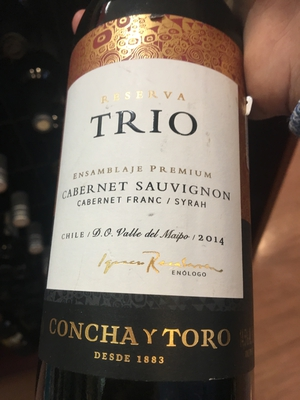trio cabernet sauvignon: (42, 7, 268, 400)
